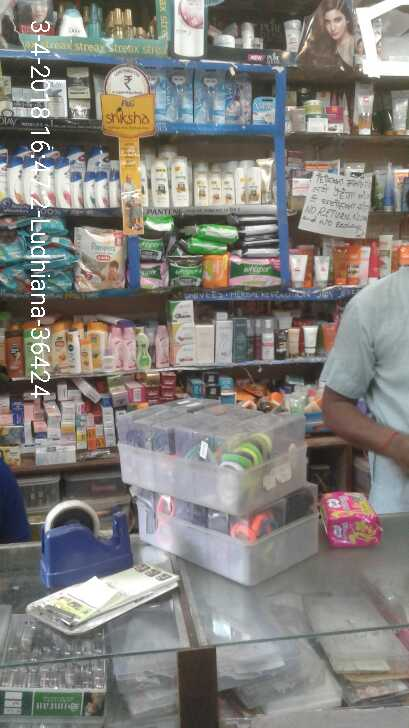venus: (196, 72, 223, 125), (170, 71, 193, 120), (227, 77, 250, 125), (148, 72, 166, 120), (254, 96, 275, 126)
